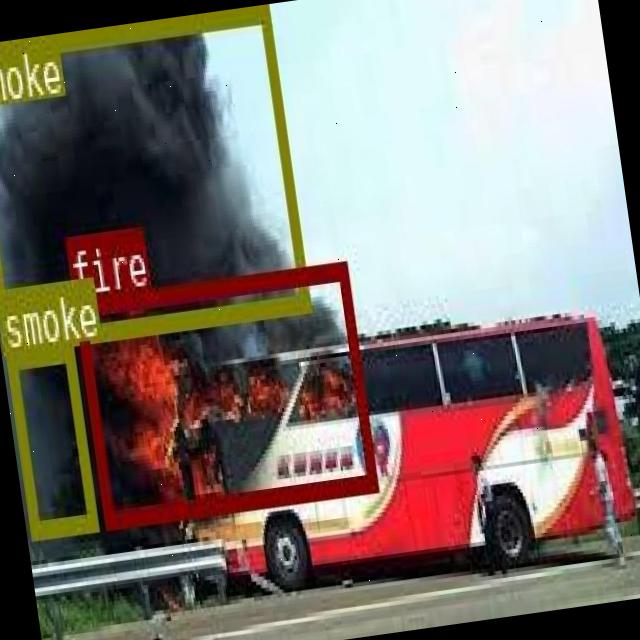fire: (72, 258, 375, 526)
smoke: (0, 4, 307, 348), (5, 340, 96, 534)
